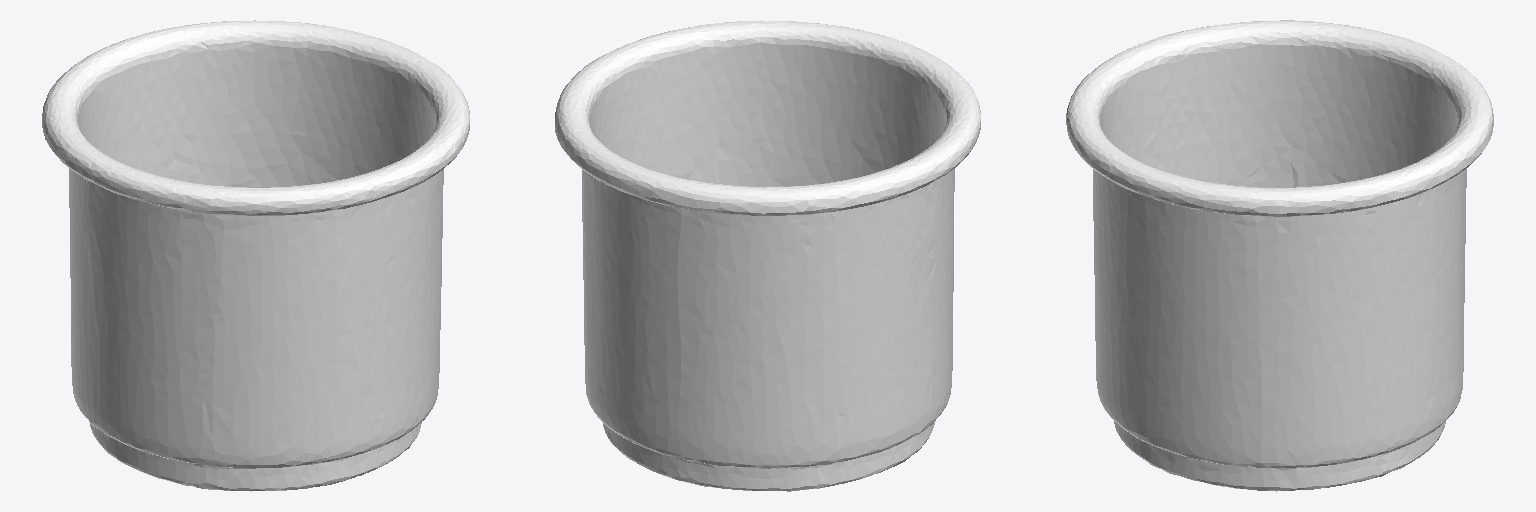
URDF robot description (062_dice):
<robot name="062_dice">
	<link name="_name">
		<visual>
			<origin xyz="0.11207378509108022 -0.09163342961551289 -0.08407354793330488" rpy="0 0 0" />
			<geometry>
				<mesh filename="062_dice/google_16k/textured.obj" scale="10 10 10" />
			</geometry>
			<material name="texture">
				<color rgba="1.0 1.0 1.0 1.0" />
			</material>
		</visual>
		<collision>
			<geometry>
				<mesh filename="062_dice/google_16k/textured_vhacd.obj" scale="10 10 10" />
			</geometry>
		<origin xyz="0.11207378509108022 -0.09163342961551289 -0.08407354793330488" rpy="0 0 0" /></collision>
		<inertial>
			<mass value="1.0" />
			<inertia ixx="1.0" ixy="0.0" ixz="0.0" iyy="1.0" iyz="0.0" izz="1.0" />
		</inertial>
	</link>
</robot>

--- Facts derived from the render (not from the file) ---
The picture shows the robot from 3 angles, left to right: view 1: azimuth 30°, elevation 25°; view 2: azimuth 150°, elevation 25°; view 3: azimuth 270°, elevation 25°; orthographic projection.
Robot: 062_dice — 1 links, 0 joints (none); root link _name; default pose: all joints at 0.
Visible links, largest first — view 1: _name; view 2: _name; view 3: _name.
Boxes of the visible links, left/top/right/bottom form: _name: left=42, top=20, right=469, bottom=491; _name: left=555, top=20, right=980, bottom=491; _name: left=1066, top=20, right=1493, bottom=491.
Size in the robot's own frame: 0.915 by 0.9162 by 0.7506 metres.
1 mesh visuals loaded from 1 distinct referenced files (1 OBJ).